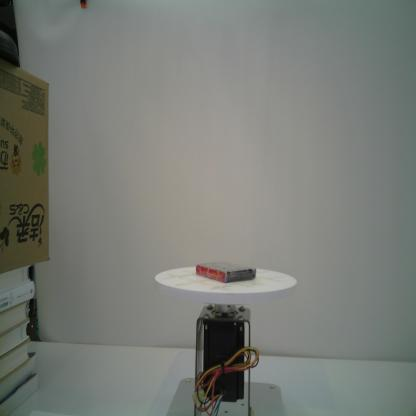Gum: (196, 260, 256, 283)
